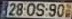0: (56, 3, 64, 17)
2: (8, 2, 16, 16)
8: (16, 2, 23, 16)
9: (48, 3, 56, 17)
O: (25, 2, 35, 16)
S: (35, 2, 45, 16)
